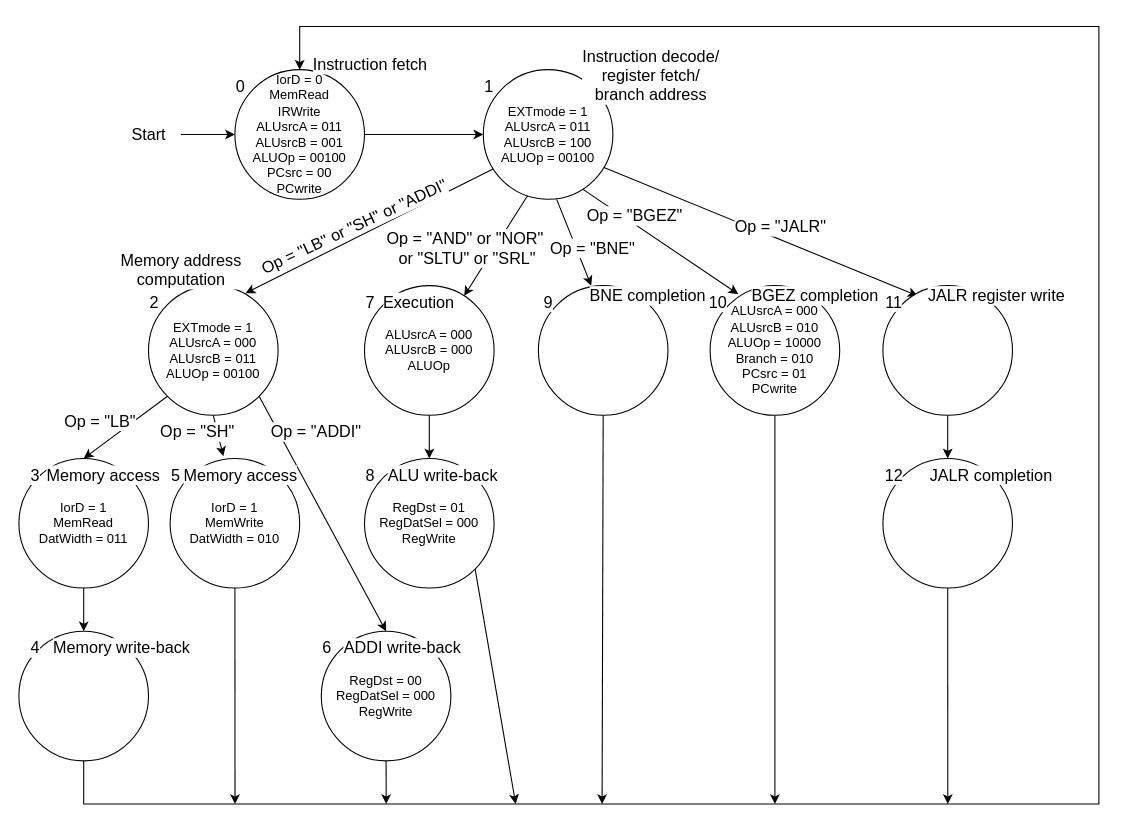
Image size: 1126x832. Some labels were removed from this diagram. Each missing label, with the box of its shape:
ALUsrcA = 000 ALUsrcB = 000 ALUOp = 00110 Branch = 101 PCsrc = 01 PCwrite: (537, 285, 668, 415)
ALUsrcA = 000 ALUsrcB = 010 ALUOp = 00100 PCsrc = 00 PCwrite: (882, 457, 1013, 588)
RegDst = 00 RegDatSel = 001 RegWrite: (18, 630, 148, 761)
RegDst = 11 RegDatSel = 100 RegWrite: (882, 285, 1013, 415)
